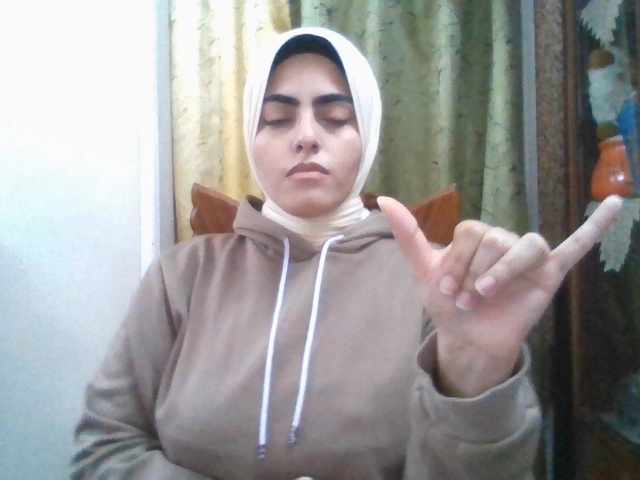Y: (377, 195, 623, 358)
